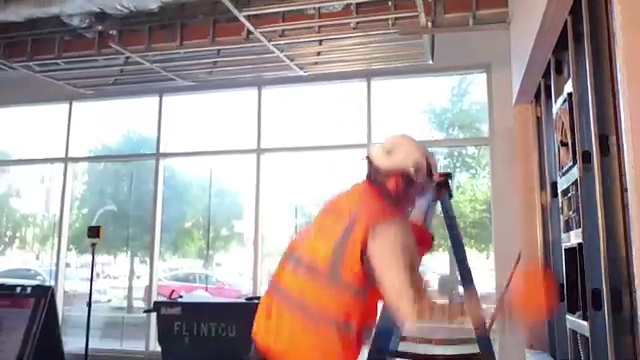helmet: (355, 124, 450, 181)
jacket: (283, 166, 382, 349)
